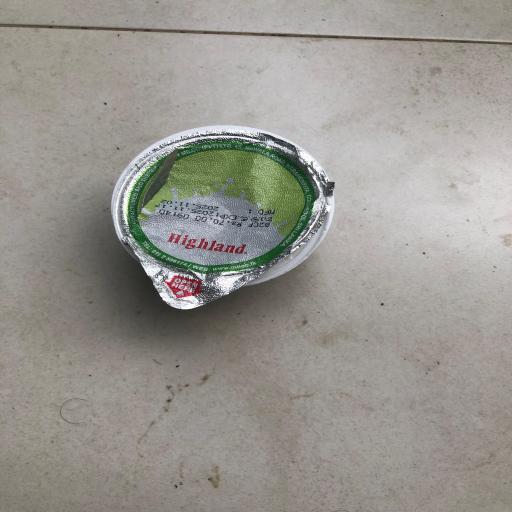waste: (100, 106, 355, 322)
